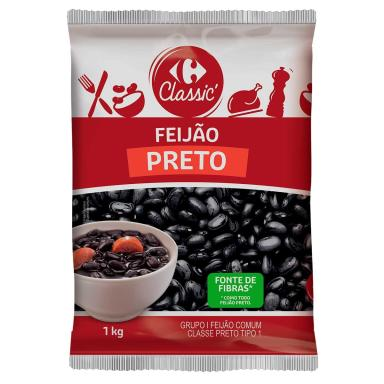beans package: (68, 11, 317, 370)
